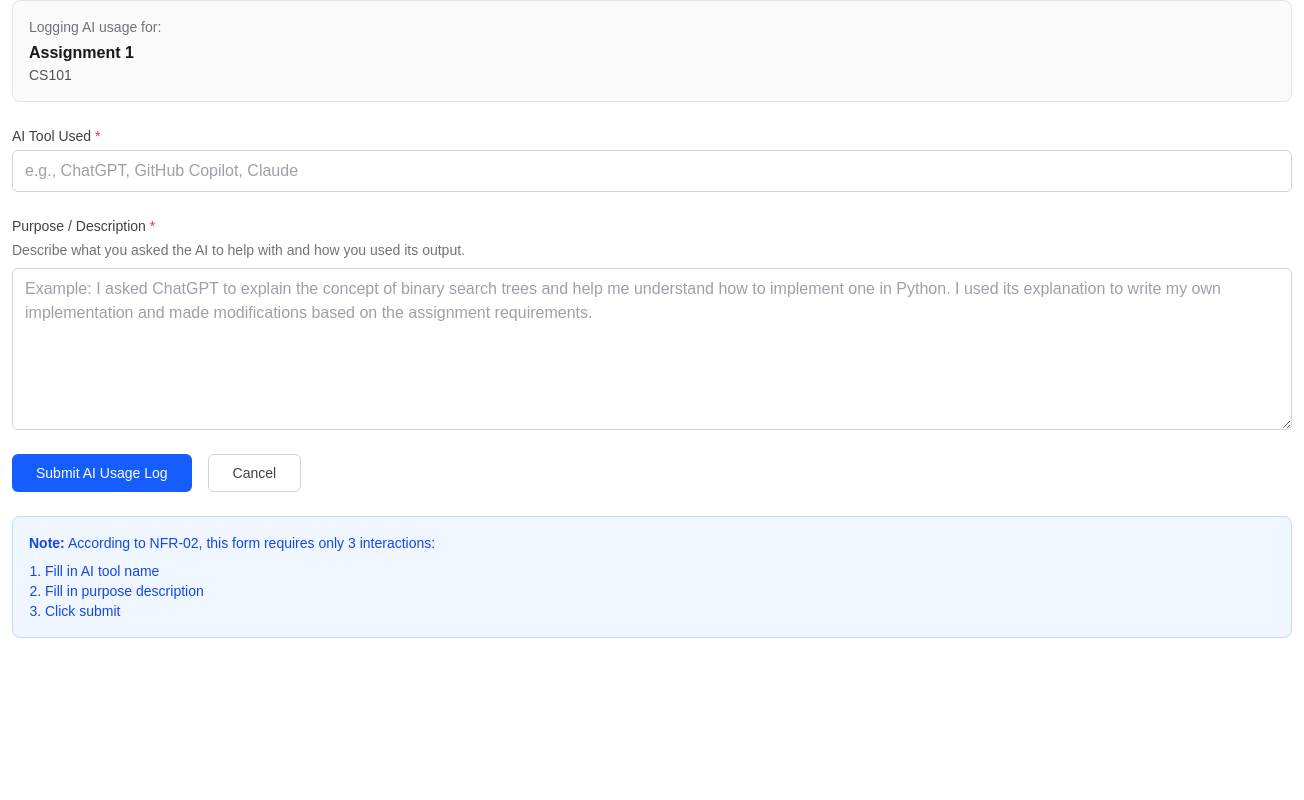
Test: AILogForm Component › displays an error message when createAILog returns an error object
Type "Copilot" into the field labelled "AI Tool Used *" at (652, 171), box [12,150,1292,192]
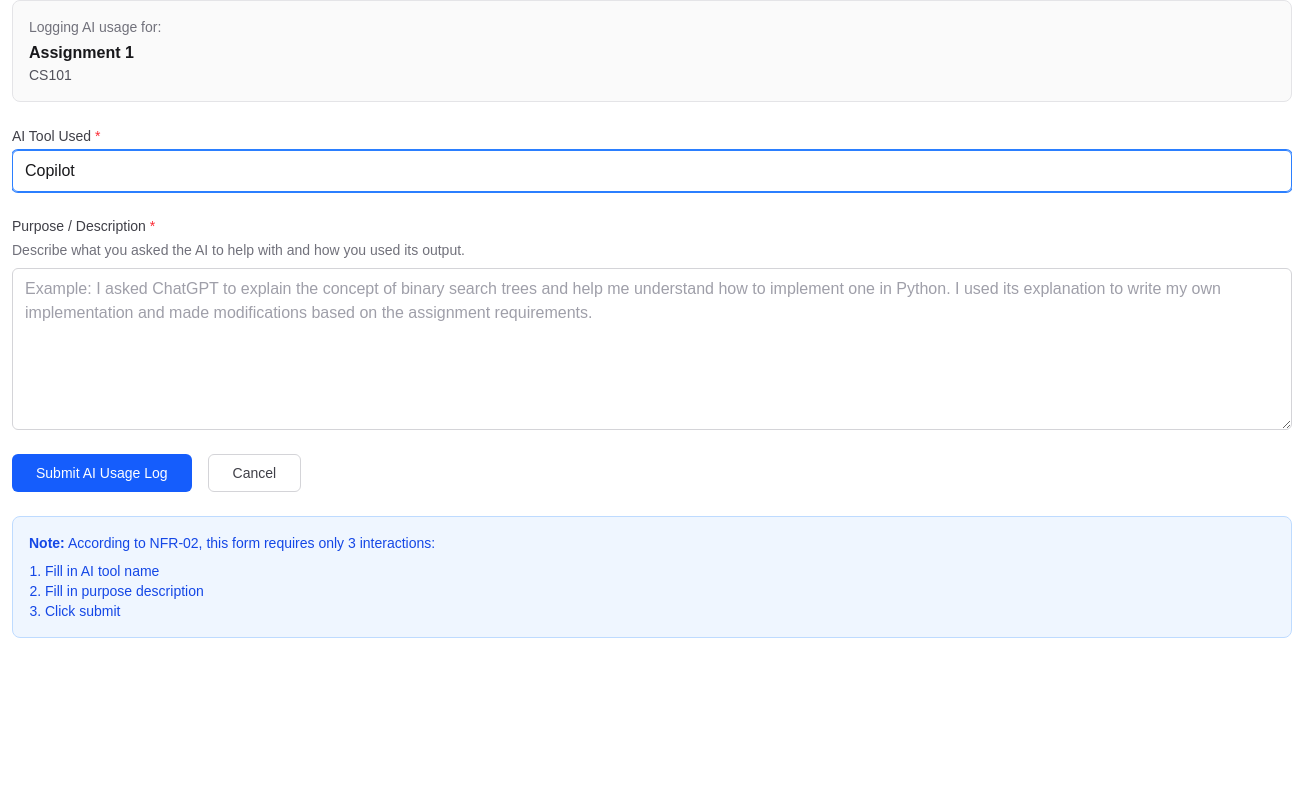
Type "Autocompleting some simple functions" into the text box labelled "Purpose / Description *" at (652, 349), box [12,268,1292,430]
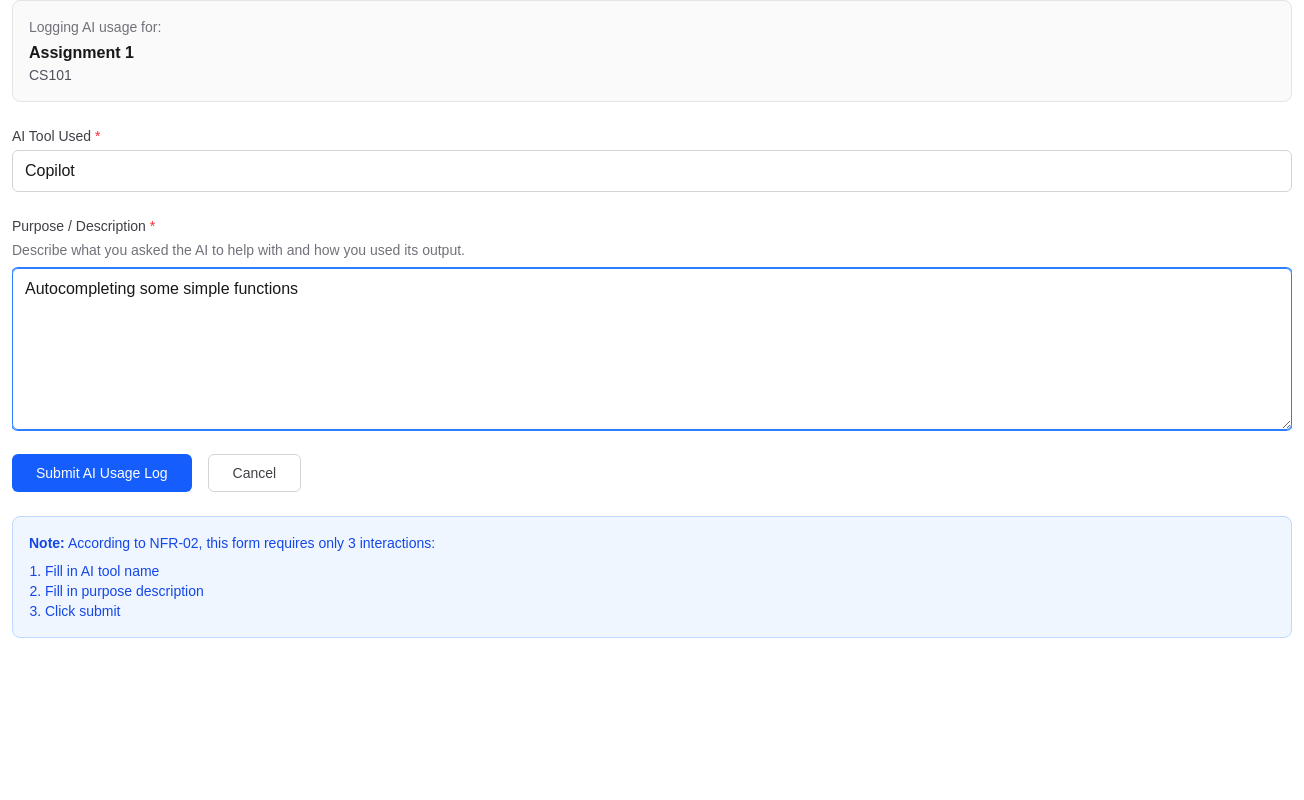
Click the button "Submit AI Usage Log" at (102, 473), box [12,454,192,492]
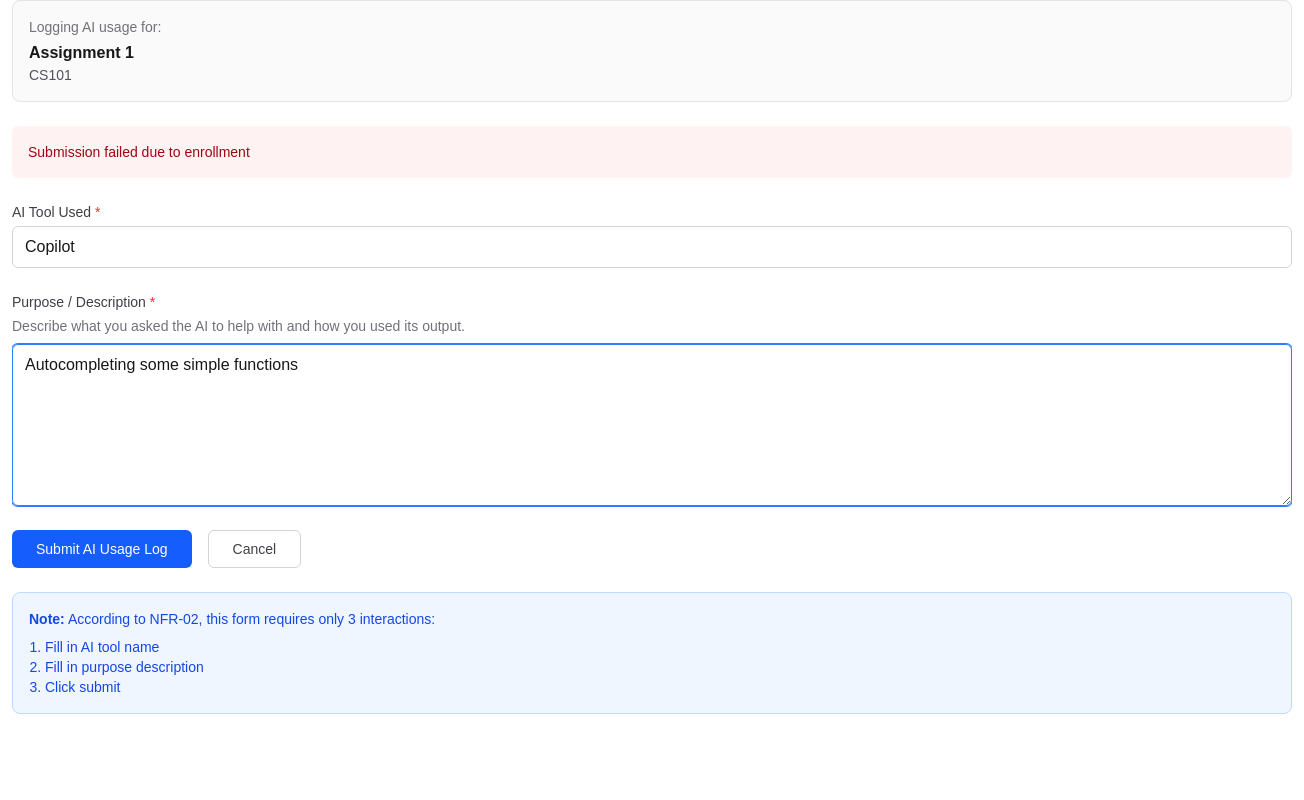
Now the text "Submission failed due to enrollment" is shown, box [12,126,1292,178]
